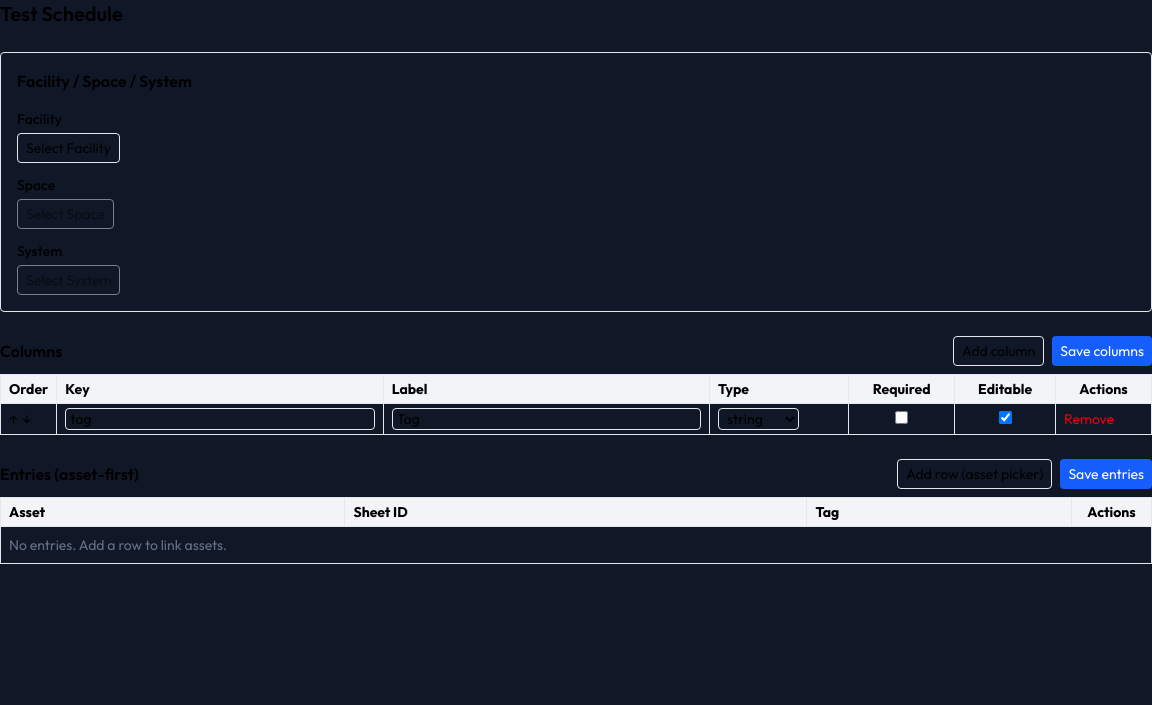
Test case: ScheduleEditor › asset picker shows explicit auth/permission message on 401 and clears it after a successful fetch
The image size is (1152, 705).
Click the button "Add row (asset picker)" at (975, 474), box [897,459,1052,489]
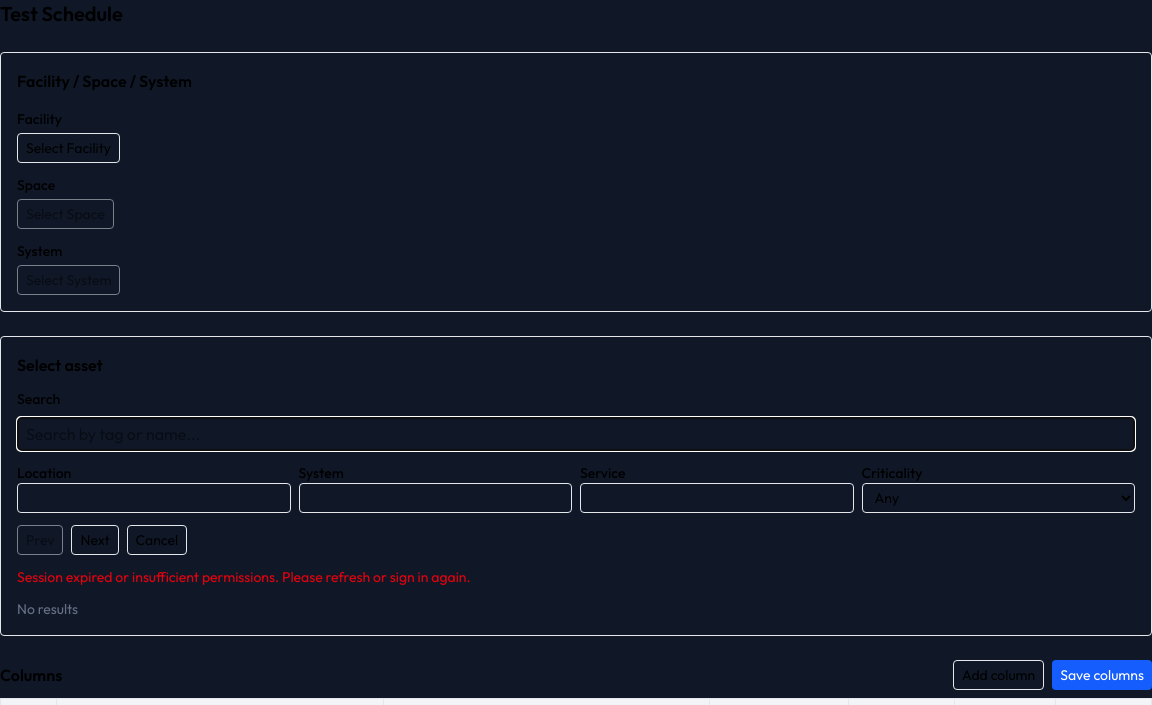
Result: the text "Session expired or insufficient permissions. Please refresh or sign in again." is shown at [17,568,471,586]
Type "pump" into the field with placeholder "Search by tag or name..." at (576, 434), box [17,417,1135,451]
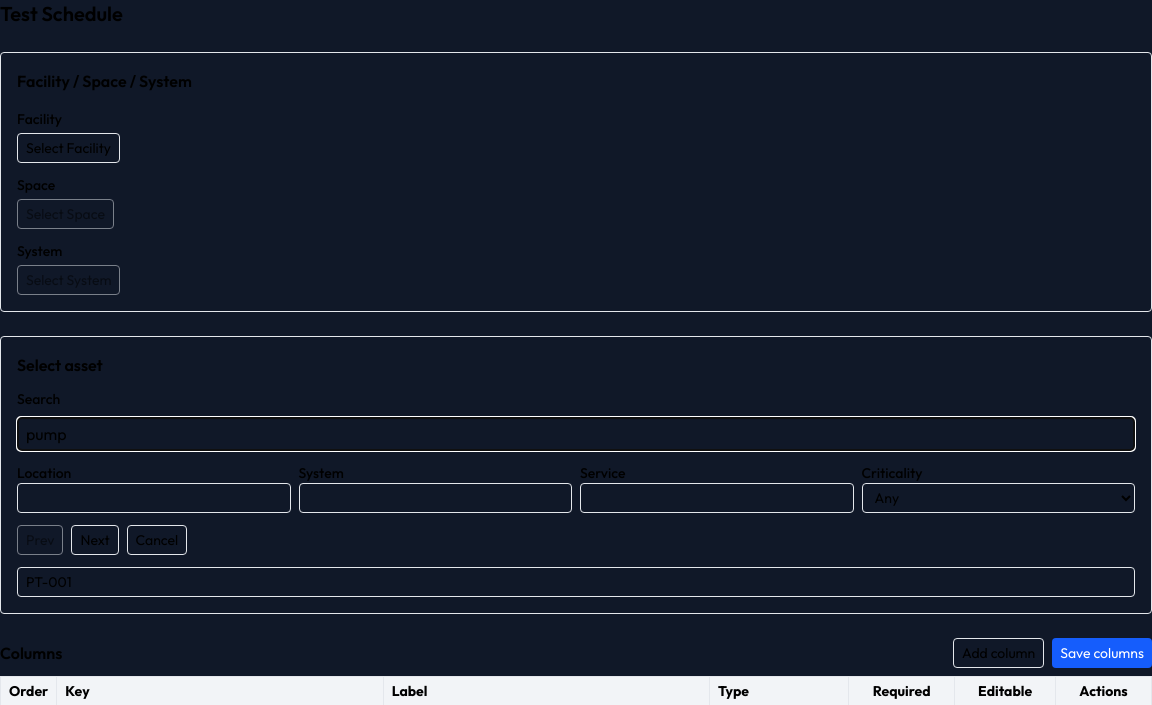
Result: the text "Session expired or insufficient permissions" is gone
Result: the list item "PT-001" is shown at [26,573,72,591]
